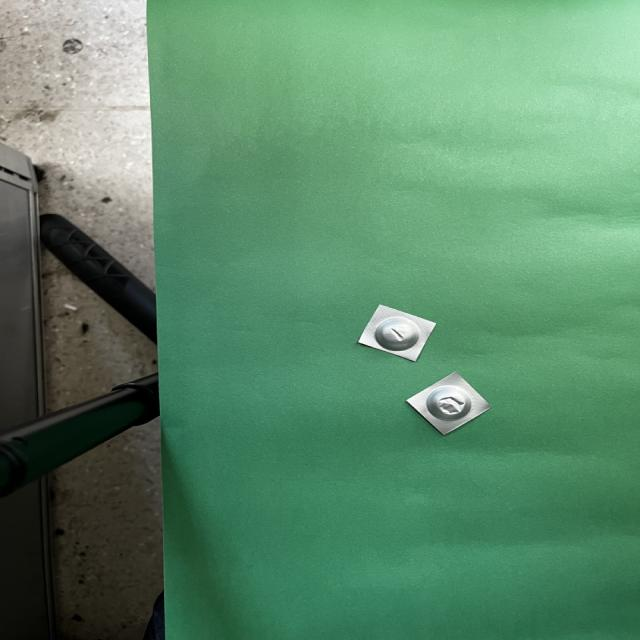Other Objects: (406, 372, 490, 434), (358, 306, 434, 361)
